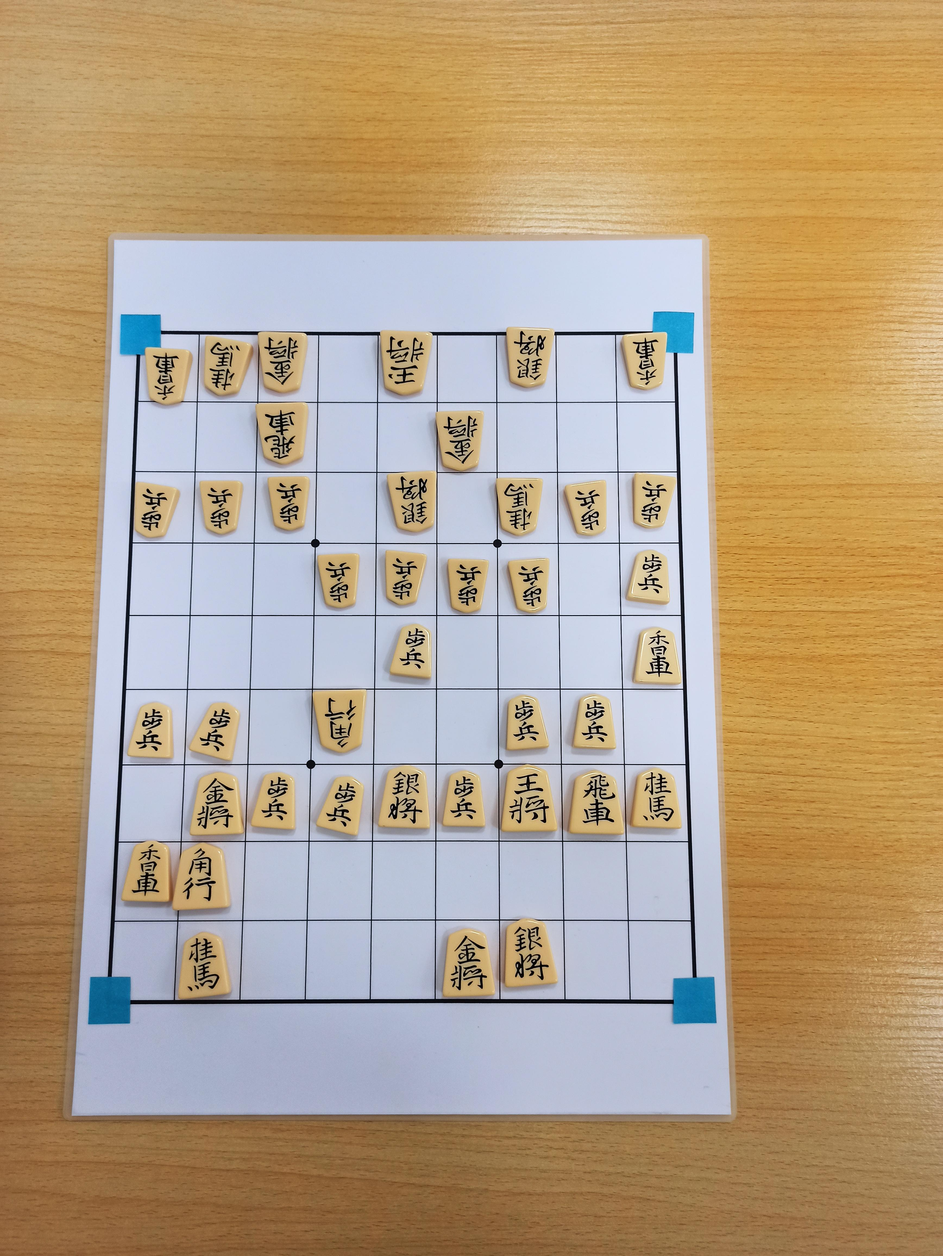board: (109, 332, 696, 1003)
